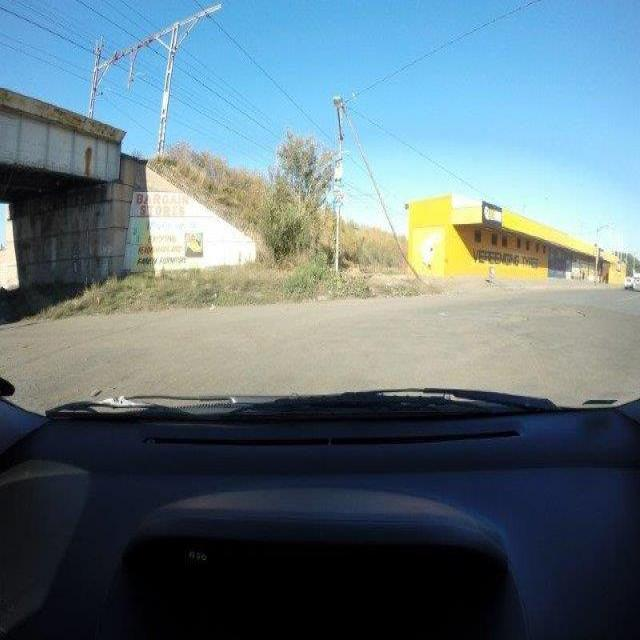jalan retak: (3, 365, 69, 408), (615, 302, 640, 378)
lubang: (548, 303, 586, 324)
